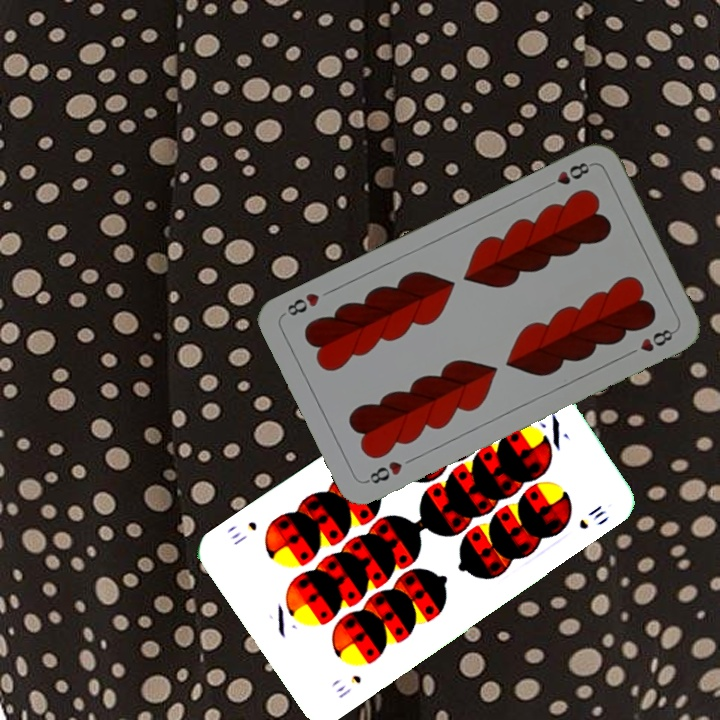H8: (540, 158, 596, 192), (361, 457, 405, 487)
S10: (332, 670, 364, 701)
